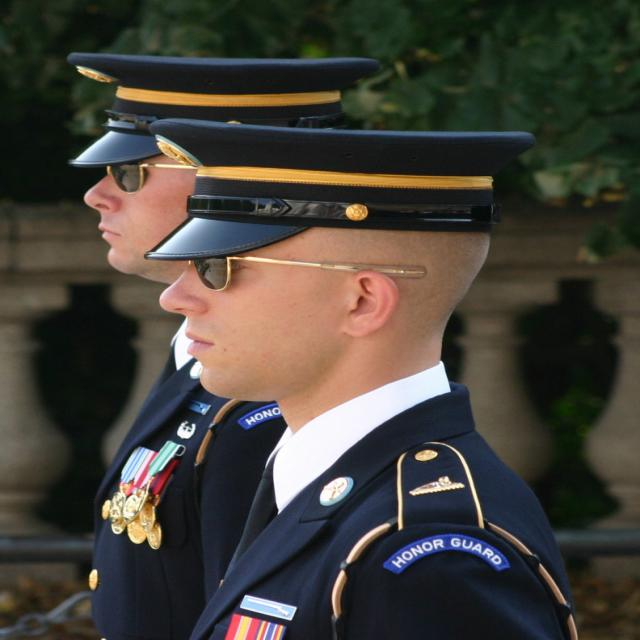Glasses: (111, 232, 438, 294), (105, 161, 198, 196)
